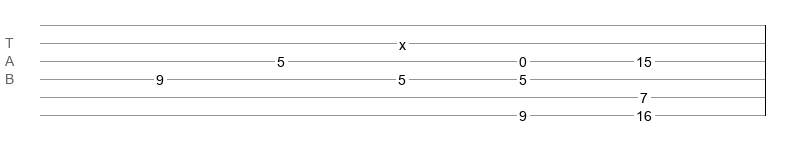0: (519, 54, 527, 64)
15: (636, 54, 652, 64)
16: (636, 108, 652, 118)
5: (277, 54, 285, 64), (398, 72, 406, 82), (519, 72, 527, 82)
7: (640, 90, 648, 100)
9: (156, 72, 164, 82), (519, 108, 527, 118)
x: (399, 37, 406, 45)
